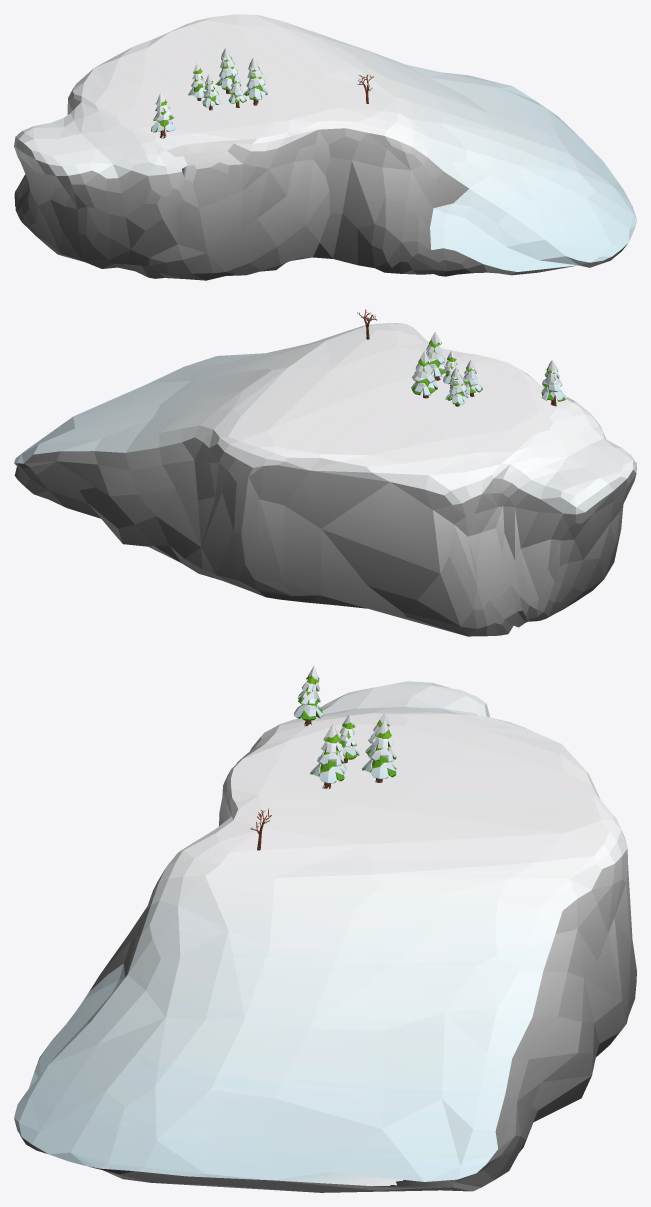
The picture shows the model from 3 angles, top to bottom: view 1: azimuth 30°, elevation 25°; view 2: azimuth 150°, elevation 25°; view 3: azimuth 270°, elevation 25°; orthographic projection. The views are drawn at different scales.
Parts seen in each view (by area): view 1: BigCliffWithPlants, SnowyTree (9), SnowyTree (8), SnowyTree (6), SnowyTree (7), SnowyTree (10); view 2: BigCliffWithPlants, SnowyTree (6), SnowyTree (8), SnowyTree (9), SnowyTree (7); view 3: BigCliffWithPlants, SnowyTree (9), SnowyTree (6), SnowyTree (8).
Part boxes in pixels (x1,y1,x2,y2): BigCliffWithPlants: (14,14,636,280); SnowyTree (9): (243,57,267,105); SnowyTree (8): (151,93,175,138); SnowyTree (6): (215,47,240,93); SnowyTree (7): (188,63,206,100); SnowyTree (10): (202,74,220,110); BigCliffWithPlants: (14,323,636,636); SnowyTree (6): (411,350,437,398); SnowyTree (8): (541,360,566,406); SnowyTree (9): (426,331,446,381); SnowyTree (7): (445,367,468,406); BigCliffWithPlants: (14,681,636,1192); SnowyTree (9): (310,724,344,789); SnowyTree (6): (362,719,396,782); SnowyTree (8): (293,665,323,726).
Bounding box in the file's own units: 200 × 65.46 × 146.
1 material, 1 textured.
